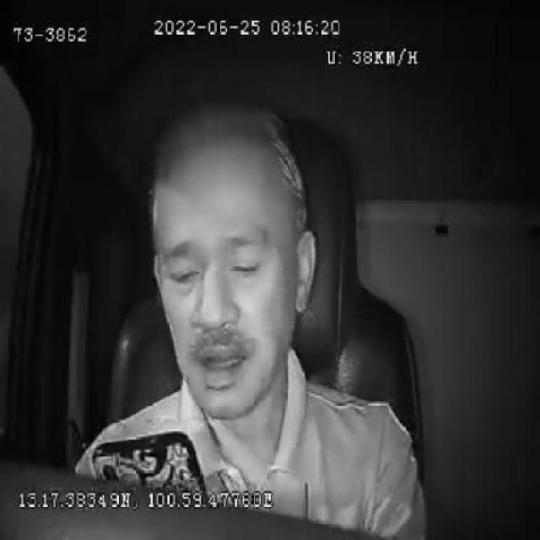phone: (91, 427, 209, 489)
